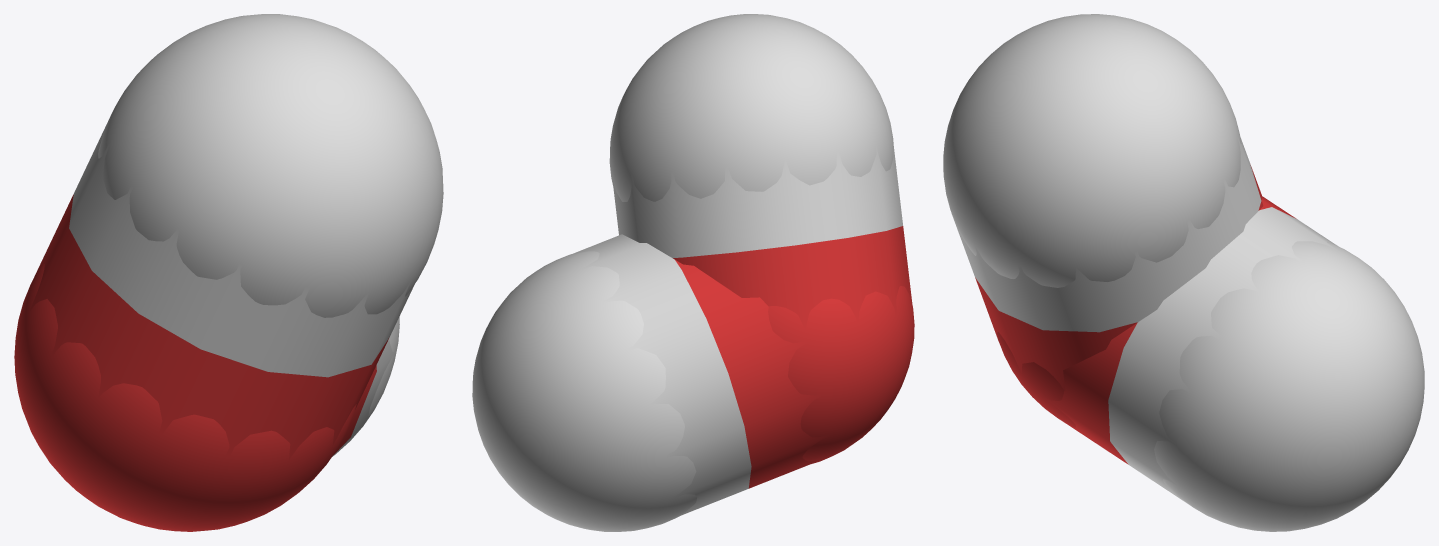
Rendered from 962-sticks-color-print_NIH3D.glb.
3 views of the same model, side by side, from view 1: azimuth 30°, elevation 25°; view 2: azimuth 150°, elevation 25°; view 3: azimuth 270°, elevation 25° (orthographic). The views are drawn at different scales.
Parts seen in each view (by area): view 1: atoms, bonds; view 2: atoms, bonds; view 3: atoms, bonds.
Boxes of the visible parts, x1,y1,x2,y2 form: atoms: (14, 14, 443, 531); bonds: (29, 120, 414, 461); atoms: (472, 14, 914, 531); bonds: (565, 141, 913, 519); atoms: (943, 14, 1424, 531); bonds: (951, 136, 1338, 503).
Bounding box in the file's own units: 2.21 × 2.73 × 2.57.
